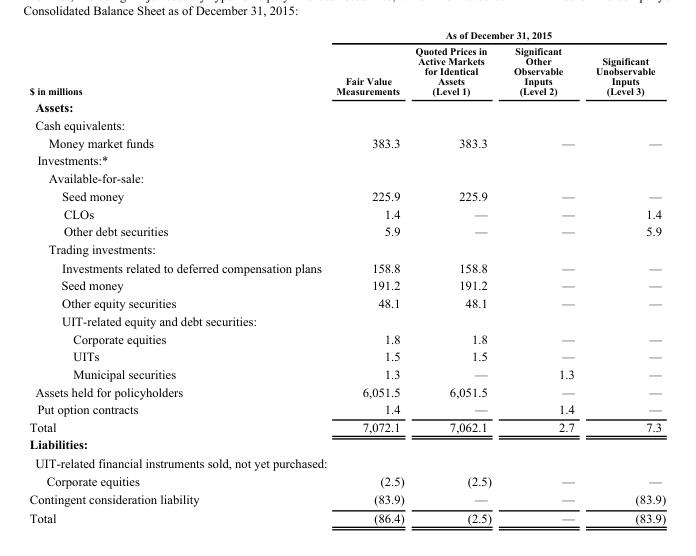table: (28, 28, 665, 524)
table column: (28, 28, 328, 524), (409, 28, 501, 524), (501, 28, 584, 524), (328, 28, 409, 524), (584, 28, 665, 524)
table column header: (28, 28, 665, 98)
table projected row header: (28, 239, 665, 258), (28, 115, 665, 133), (28, 151, 665, 169), (28, 311, 665, 329), (28, 435, 665, 453), (28, 453, 665, 471), (28, 98, 665, 115), (28, 169, 665, 186)
table row: (28, 42, 665, 98), (28, 239, 665, 258), (28, 471, 665, 490), (28, 115, 665, 133), (28, 133, 665, 151), (28, 151, 665, 169), (28, 186, 665, 204), (28, 204, 665, 222), (28, 258, 665, 276), (28, 276, 665, 294), (28, 311, 665, 329), (28, 329, 665, 347), (28, 364, 665, 382), (28, 382, 665, 400), (28, 417, 665, 435), (28, 435, 665, 453), (28, 453, 665, 471), (28, 490, 665, 508), (28, 98, 665, 115), (28, 169, 665, 186), (28, 222, 665, 239), (28, 294, 665, 311), (28, 347, 665, 364), (28, 400, 665, 417), (28, 508, 665, 524), (28, 28, 665, 42)
table spanning cell: (28, 28, 328, 98), (328, 28, 665, 42)
